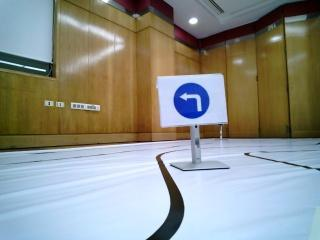left: (156, 80, 223, 122)
